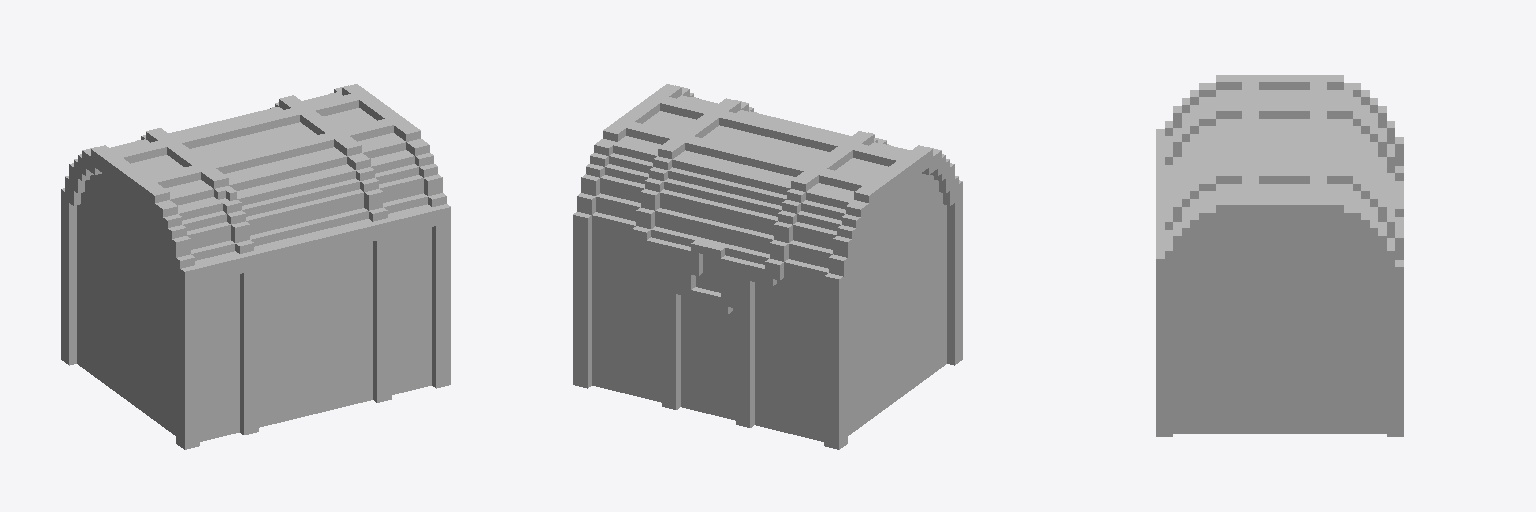
File: chest.obj
3 views of the same model, side by side, from view 1: azimuth 30°, elevation 25°; view 2: azimuth 150°, elevation 25°; view 3: azimuth 270°, elevation 25° (orthographic).
Visible parts, largest first — view 1: object 1; view 2: object 1; view 3: object 1.
Part boxes in pixels (x1,y1,x2,y2): object 1: (61, 84, 450, 449); object 1: (573, 84, 962, 449); object 1: (1156, 75, 1403, 436).
Size of the model in its own units: 3.6 by 3 by 2.9.